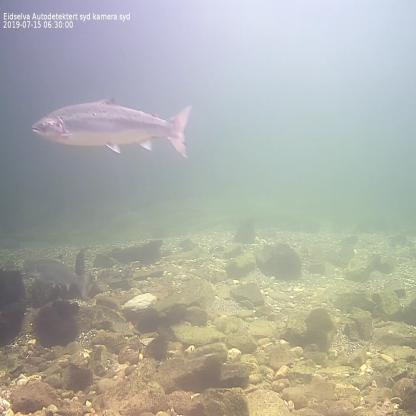salmon: (29, 92, 193, 163), (21, 251, 93, 302)
